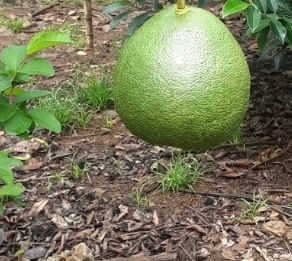Buoi: (104, 2, 254, 151)
